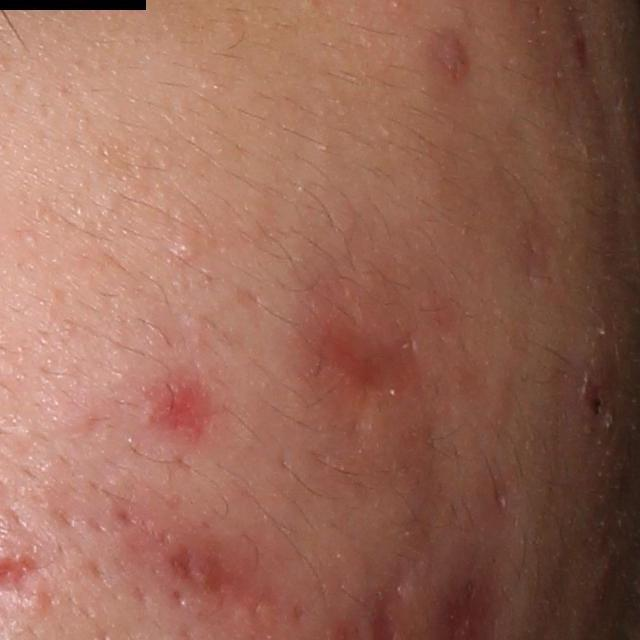atrophic_scar: (307, 308, 435, 402), (200, 551, 259, 596), (167, 541, 196, 584)
comedo: (173, 237, 193, 264)
